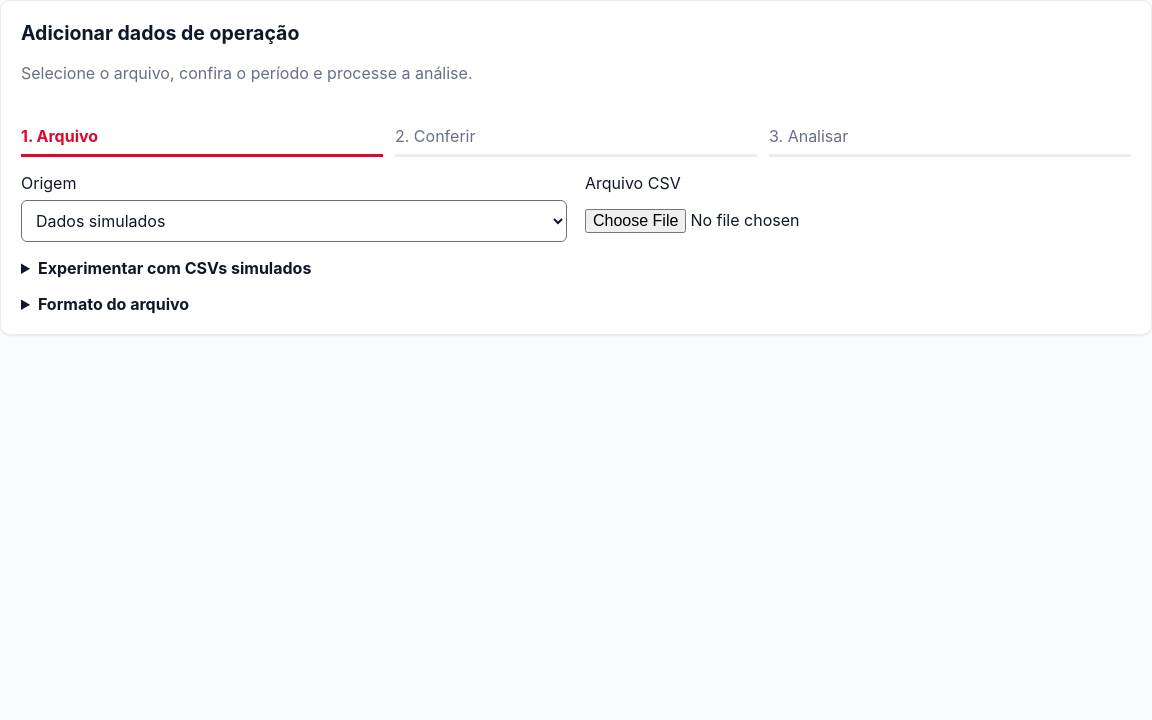
Test: entrada de máquinas e dados › valida um CSV simulado antes de processar e leva ao resultado
What coordinates should you click on to do the following:
click the heading "Experimentar com CSVs simulados"
I would click on:
 (175, 268)
Its box is [38, 258, 311, 278].
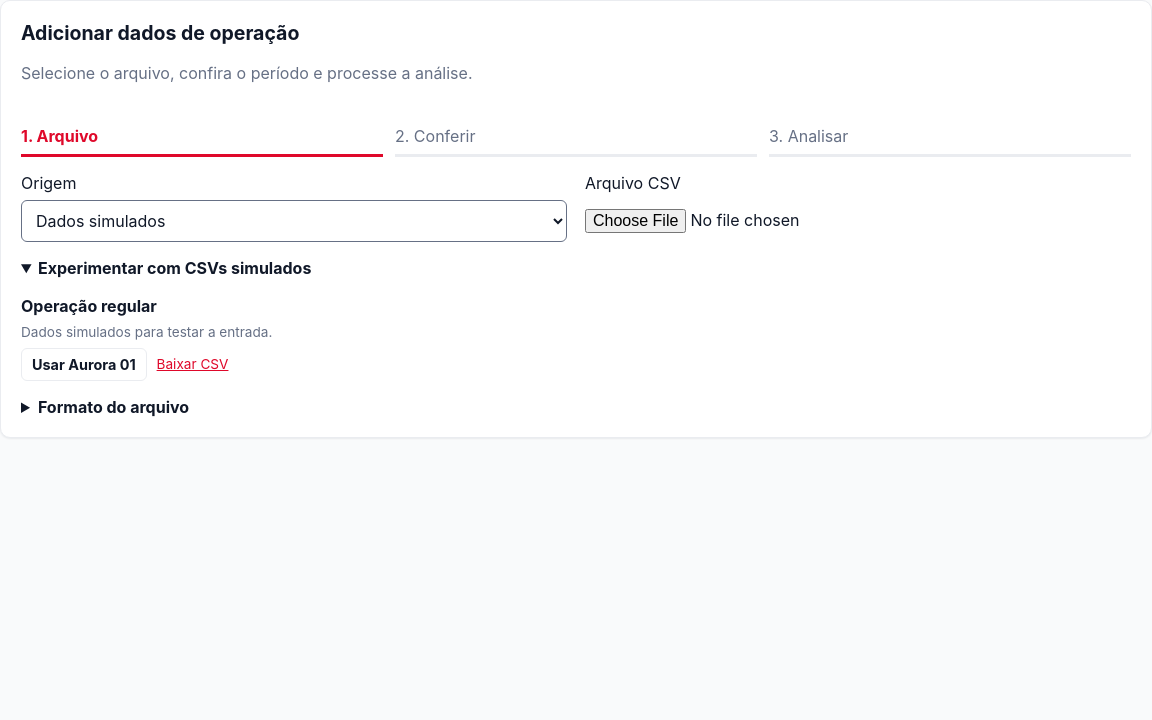
What coordinates should you click on to do the following:
click the button "Usar Aurora 01"
I would click on:
 (84, 364)
Its box is [21, 348, 147, 381].
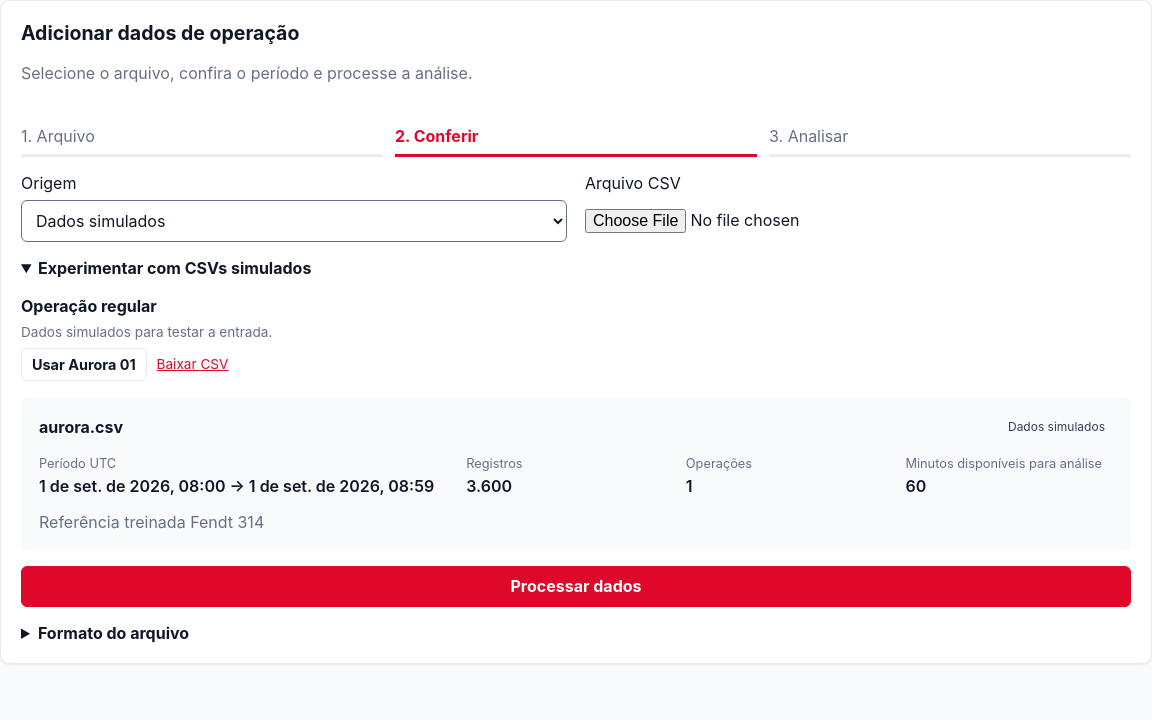
Now the text "aurora.csv" is shown, box [39, 418, 123, 438]
What coordinates should you click on to do the following:
click the button "Processar dados"
I would click on:
 (576, 586)
Its box is [21, 566, 1131, 607].
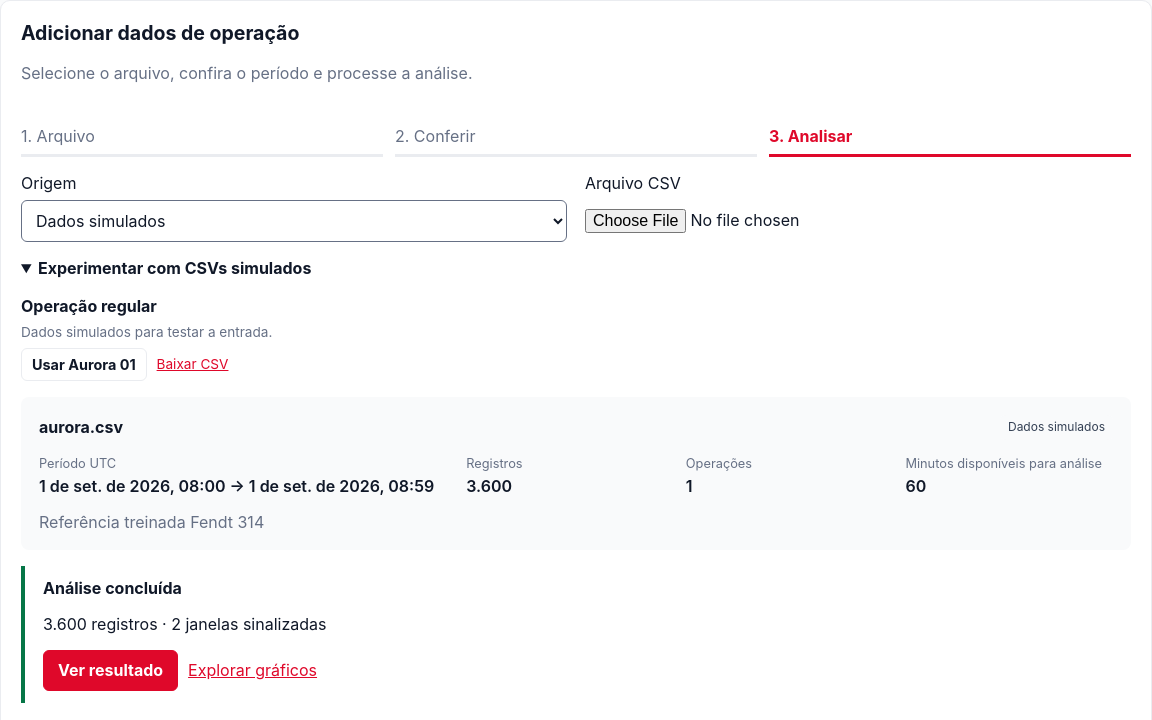
Now the text "Análise concluída" is shown, box [43, 578, 182, 598]
